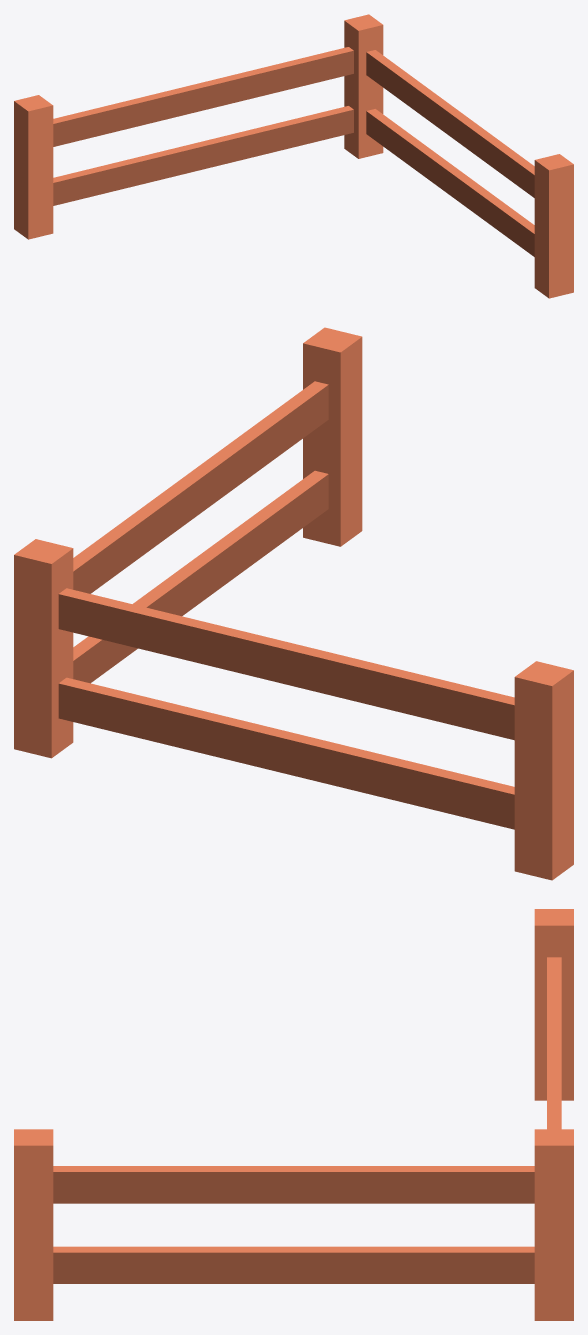
The model's file is fence-corner.glb.
3 views of the same model, one above another, from view 1: azimuth 30°, elevation 25°; view 2: azimuth 150°, elevation 25°; view 3: azimuth 270°, elevation 25° (orthographic). The views are drawn at different scales.
Parts seen in each view (by area): view 1: fence_corner; view 2: fence_corner; view 3: fence_corner.
Boxes of the visible parts, box(x1,y1,x2,y2) form: fence_corner: box(14, 14, 573, 298); fence_corner: box(14, 327, 573, 880); fence_corner: box(14, 909, 573, 1320).
Bounding box in the file's own units: 1 × 0.345 × 1.
